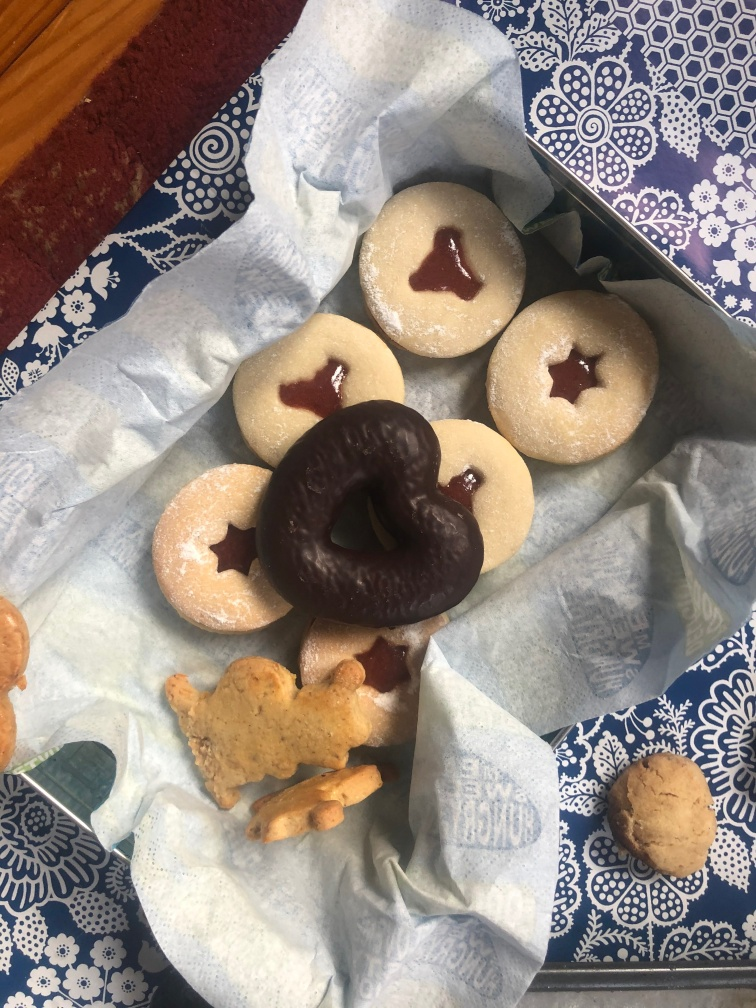christmas shortbread with jam: (488, 290, 666, 467), (361, 178, 530, 356), (231, 312, 401, 471), (153, 461, 296, 629), (423, 413, 534, 585), (300, 624, 431, 747)
santa claus: (156, 650, 410, 810), (250, 766, 385, 841)
snowball: (605, 747, 717, 877)
